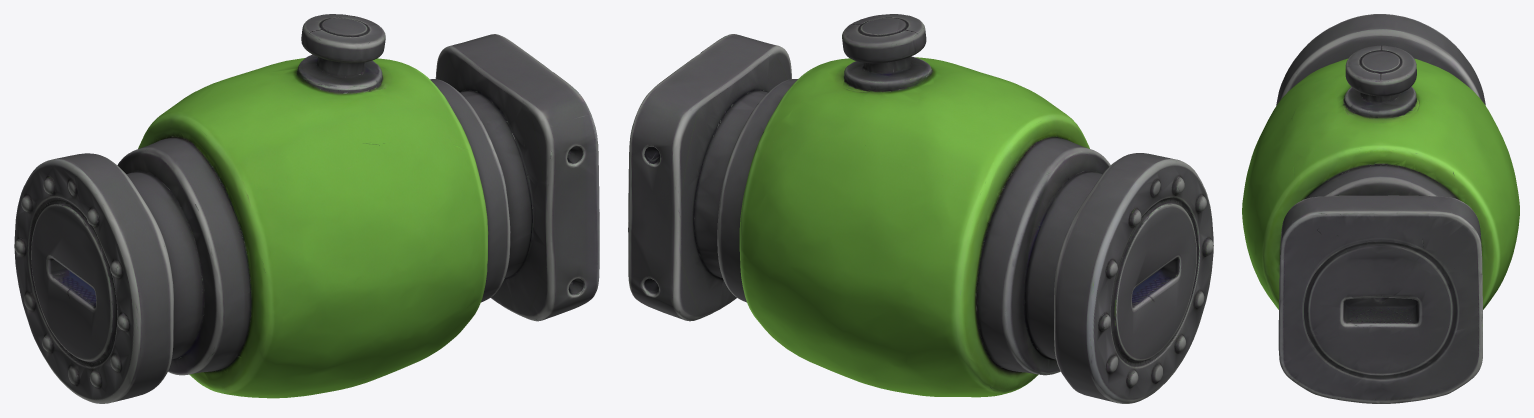
The model's file is Meshy_AI_Green_Rotary_Actuator_0614074846_texture.fbx.
3 views of the same model, side by side, from view 1: azimuth 30°, elevation 25°; view 2: azimuth 150°, elevation 25°; view 3: azimuth 270°, elevation 25° (orthographic). The views are drawn at different scales.
Visible parts, largest first — view 1: Mesh_0; view 2: Mesh_0; view 3: Mesh_0.
Part boxes in pixels (<box>): Mesh_0: <box>14,14,599,403</box>; Mesh_0: <box>628,14,1213,403</box>; Mesh_0: <box>1242,14,1519,403</box>.
Bounding box in the file's own units: 191 × 133 × 114.
1 material, 1 textured.
